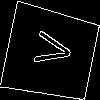V: (25, 27, 74, 70)
